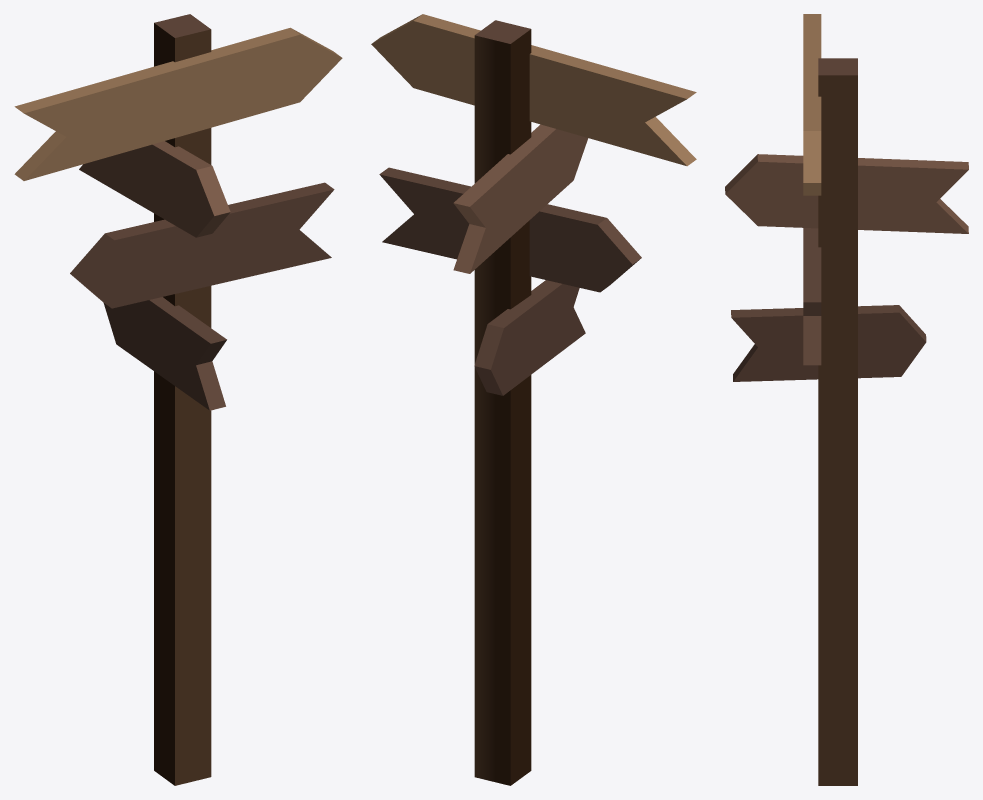
File: Street Signal.glb
3 renders of one model, left to right at view 1: azimuth 30°, elevation 25°; view 2: azimuth 150°, elevation 25°; view 3: azimuth 270°, elevation 25°, orthographic. The views are drawn at different scales.
Visible parts, largest first — view 1: Street signal; view 2: Street signal; view 3: Street signal.
Part boxes in pixels (box(x1,y1,x2,y2)): Street signal: box(14, 14, 342, 785); Street signal: box(371, 14, 696, 785); Street signal: box(725, 14, 968, 785).
Size of what is drawn, in the model's own units: 1.95 by 4.36 by 1.36.
1 material, 1 textured.
